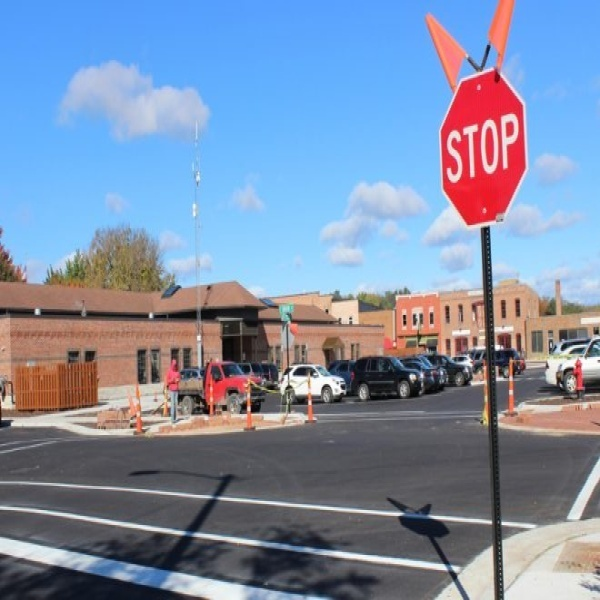stop: (437, 63, 523, 223)
